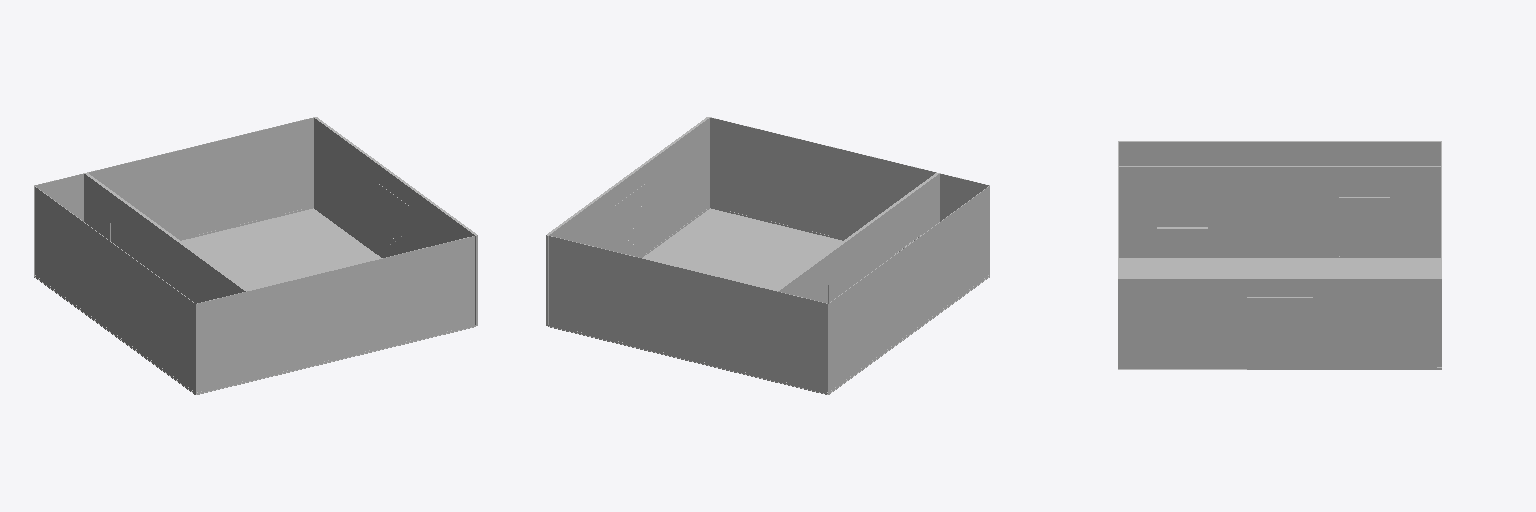
The model's file is Salle.obj.
The picture shows the model from 3 angles: view 1: azimuth 30°, elevation 25°; view 2: azimuth 150°, elevation 25°; view 3: azimuth 270°, elevation 25°; orthographic projection.
Visible parts, largest first — view 1: Mesh7 Wall_Base2 Model, Mesh5 Wall_Base1 Model, Mesh9 Wall_Base3 Model, Mesh3 Ground1 Model, Mesh36 Wall_entrance1 Model, Mesh19 Wall_middle1 Model, Mesh1 Group1 Model; view 2: Mesh5 Wall_Base1 Model, Mesh7 Wall_Base2 Model, Mesh9 Wall_Base3 Model, Mesh36 Wall_entrance1 Model, Mesh3 Ground1 Model, Mesh19 Wall_middle1 Model, Mesh1 Group1 Model; view 3: Mesh19 Wall_middle1 Model, Mesh36 Wall_entrance1 Model, Mesh1 Group1 Model, Mesh9 Wall_Base3 Model, Mesh3 Ground1 Model, Mesh22 Door_base1 Kitchen_door1 Model, Mesh26 Door_base2 Kitchen_door2 Model.
Part boxes in pixels (x1,y1,x2,y2): Mesh7 Wall_Base2 Model: (195,236,474,394); Mesh5 Wall_Base1 Model: (34,117,313,274); Mesh9 Wall_Base3 Model: (35,186,194,391); Mesh3 Ground1 Model: (34,208,473,394); Mesh36 Wall_entrance1 Model: (314,117,477,325); Mesh19 Wall_middle1 Model: (84,173,248,381); Mesh1 Group1 Model: (314,184,475,326); Mesh5 Wall_Base1 Model: (548,235,828,394); Mesh7 Wall_Base2 Model: (710,117,989,251); Mesh9 Wall_Base3 Model: (829,186,989,391); Mesh36 Wall_entrance1 Model: (546,117,709,325); Mesh3 Ground1 Model: (550,208,989,394); Mesh19 Wall_middle1 Model: (775,173,939,380); Mesh1 Group1 Model: (546,184,709,326); Mesh19 Wall_middle1 Model: (1118,166,1441,256); Mesh36 Wall_entrance1 Model: (1118,278,1441,369); Mesh1 Group1 Model: (1247,297,1441,369); Mesh9 Wall_Base3 Model: (1118,141,1440,226); Mesh3 Ground1 Model: (1119,258,1440,277); Mesh22 Door_base1 Kitchen_door1 Model: (1339,197,1364,257); Mesh26 Door_base2 Kitchen_door2 Model: (1365,197,1389,257).
Size of the model in its own units: 101 by 31.11 by 100.